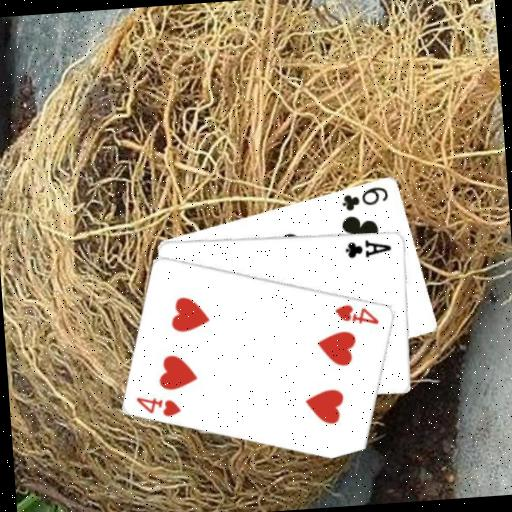4H: (332, 299, 382, 329), (133, 390, 183, 420)
6C: (338, 183, 391, 213)
AC: (342, 235, 393, 260)
